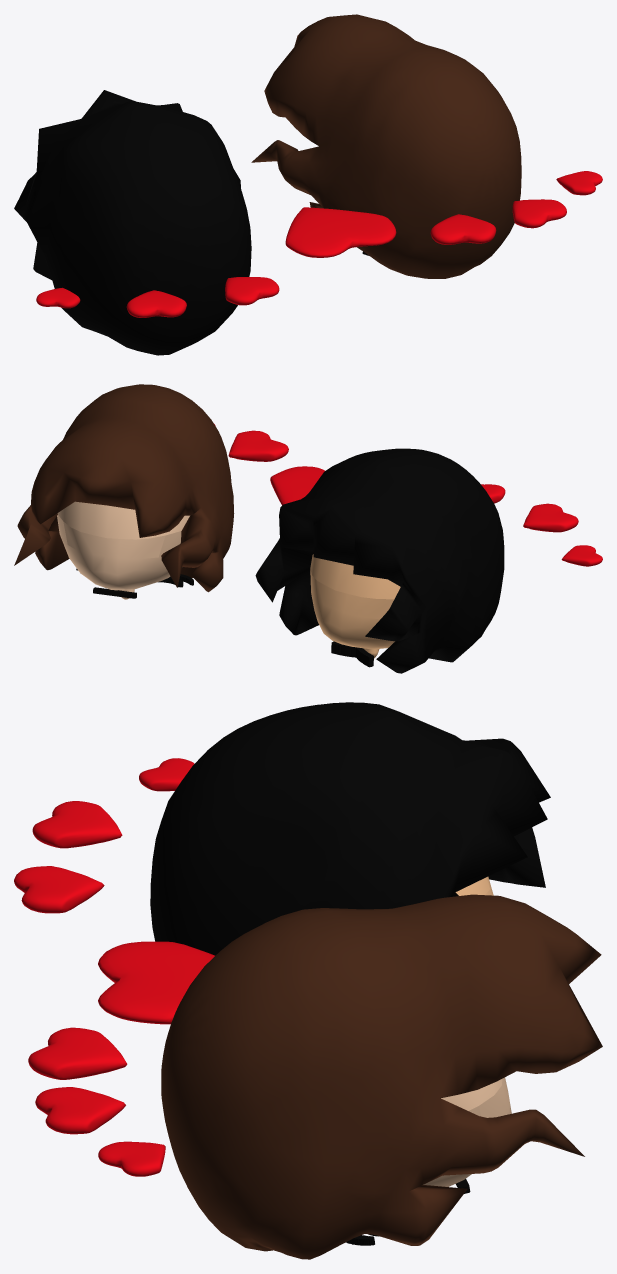
The model's file is asset.gltf.
3 views of the same model, one above another, from view 1: azimuth 30°, elevation 25°; view 2: azimuth 150°, elevation 25°; view 3: azimuth 270°, elevation 25° (orthographic). The views are drawn at different scales.
Parts seen in each view (by area): view 1: empty_16, empty_13, empty_17, empty_9, empty_8, empty_19, empty_5, empty_15, empty_10; view 2: empty_13, empty_16, empty_6, empty_4, empty_9, empty_17, empty_8, empty_10, empty_3, empty_7; view 3: empty_16, empty_13, empty_17, empty_9, empty_5, empty_19, empty_8, empty_6, empty_15, empty_10.
Part boxes in pixels (<box>): empty_16: <box>251,14,521,278</box>; empty_13: <box>14,90,251,355</box>; empty_17: <box>285,207,396,257</box>; empty_9: <box>430,214,496,244</box>; empty_8: <box>126,290,186,317</box>; empty_19: <box>512,199,566,228</box>; empty_5: <box>225,277,279,305</box>; empty_15: <box>556,171,602,195</box>; empty_10: <box>36,287,80,308</box>; empty_13: <box>255,448,504,673</box>; empty_16: <box>14,384,234,592</box>; empty_6: <box>57,501,189,590</box>; empty_4: <box>310,554,400,648</box>; empty_9: <box>228,430,288,461</box>; empty_17: <box>270,466,324,505</box>; empty_8: <box>523,503,578,532</box>; empty_10: <box>561,545,602,566</box>; empty_3: <box>331,641,373,667</box>; empty_7: <box>76,568,193,598</box>; empty_16: <box>161,894,602,1259</box>; empty_13: <box>150,702,550,955</box>; empty_17: <box>98,941,214,1024</box>; empty_9: <box>28,1027,127,1079</box>; empty_5: <box>14,866,104,913</box>; empty_19: <box>35,1087,125,1134</box>; empty_8: <box>32,801,122,848</box>; empty_6: <box>423,1077,511,1186</box>; empty_15: <box>98,1141,165,1176</box>; empty_10: <box>139,758,194,791</box>.
Size of the model in its own units: 66.25 by 24.62 by 39.97.
